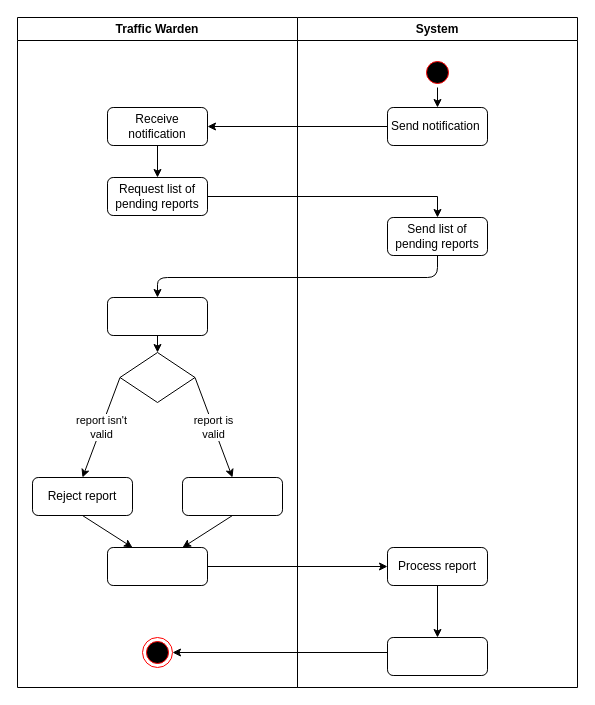
The diagram is 595 pixels wide and 705 high, and some of its shapes have lost their labels. The shapes that lost their labels are listed below. From the top down, each one's centre as x and y in pixels, then its label:
At [157,316]: "Select a report to take on".
At [232,496]: "Mark as valid report".
At [157,566]: "Send response".
At [437,656]: "Show confirmation".
